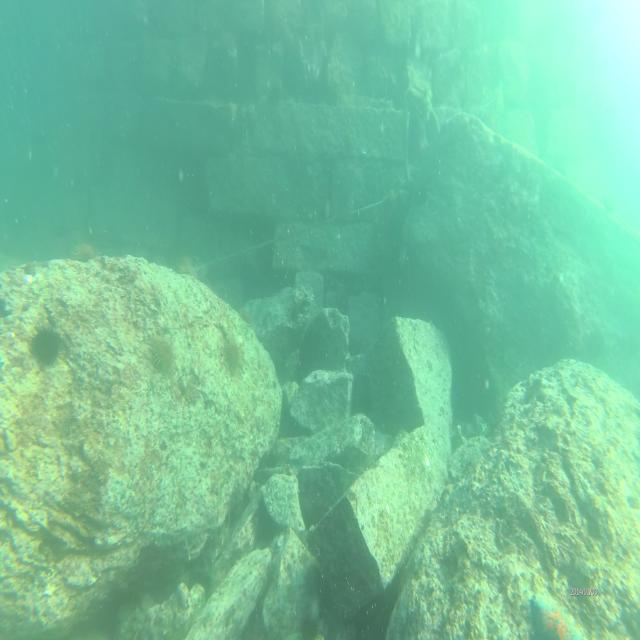echinus: (31, 323, 69, 369), (148, 332, 179, 378), (219, 335, 244, 378), (68, 238, 95, 267)
starfish: (528, 586, 582, 640), (174, 561, 175, 564)
